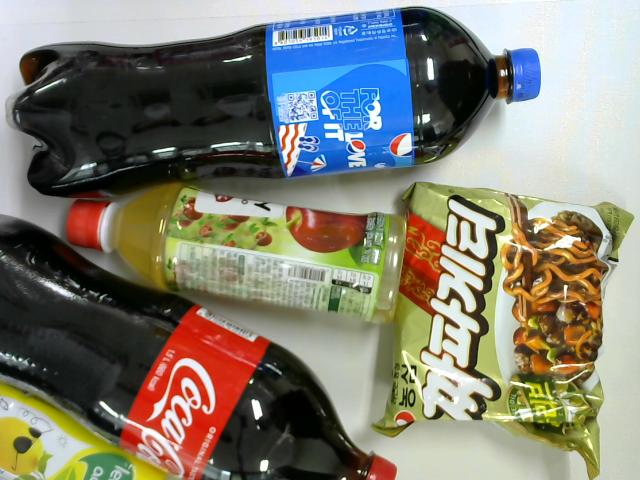Coca_Cola_1.5L: (1, 212, 397, 480)
Morning_Apple_500ml: (66, 180, 405, 324)
Olive_Chapaghetti: (366, 182, 637, 480)
Pepsi_Cola_1.5L: (13, 4, 543, 197)
Sunkist_Lemonaid_Pet: (1, 382, 178, 480)
